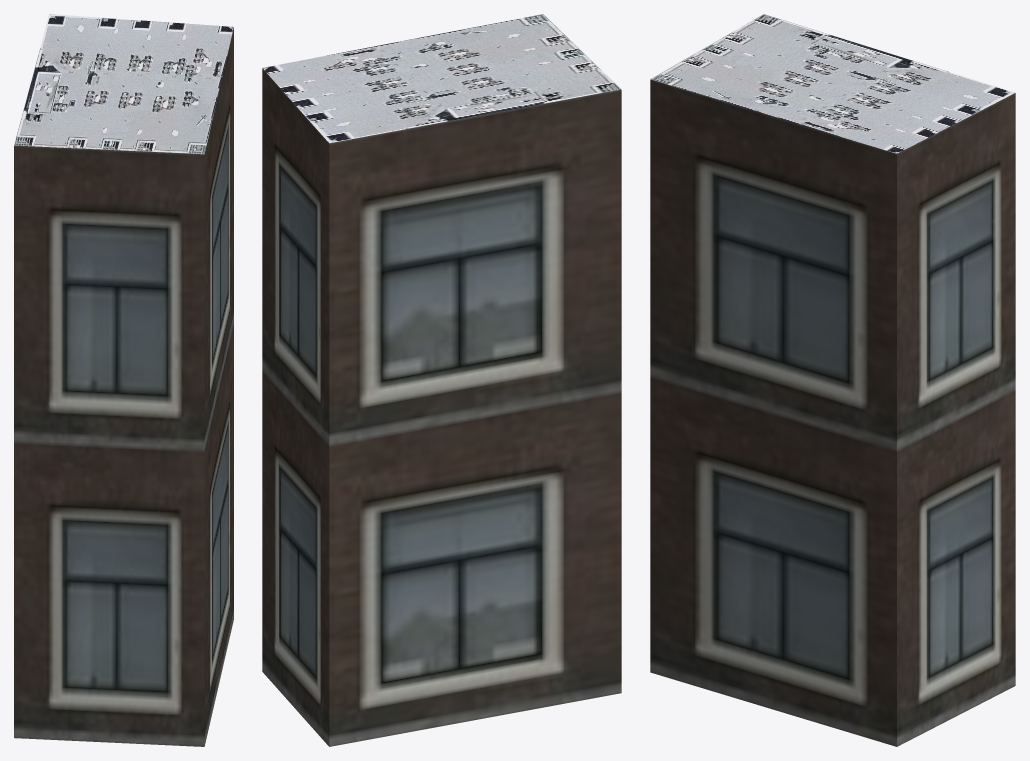
The model's file is ResTex__3942.fbx.
3 renders of one model, left to right at view 1: azimuth 30°, elevation 25°; view 2: azimuth 150°, elevation 25°; view 3: azimuth 270°, elevation 25°, orthographic.
Visible parts, largest first — view 1: CityEngineMaterial_16_m, CityEngineMaterial_15_m; view 2: CityEngineMaterial_16_m, CityEngineMaterial_15_m; view 3: CityEngineMaterial_16_m, CityEngineMaterial_15_m.
Part boxes in pixels (bbox=[...]): CityEngineMaterial_16_m: bbox=[14, 27, 233, 746]; CityEngineMaterial_15_m: bbox=[14, 14, 233, 154]; CityEngineMaterial_16_m: bbox=[262, 68, 621, 746]; CityEngineMaterial_15_m: bbox=[262, 14, 621, 143]; CityEngineMaterial_16_m: bbox=[650, 79, 1015, 746]; CityEngineMaterial_15_m: bbox=[650, 14, 1015, 153].
Size of the model in its own units: 3.03 by 6 by 3.35.
2 materials, 2 textured.
